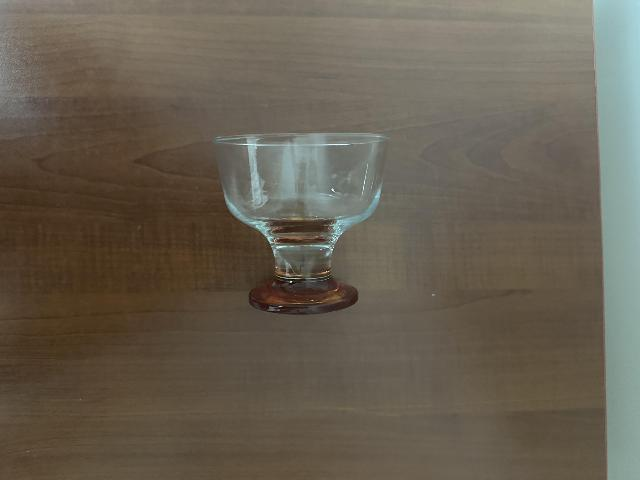Cam: (202, 117, 398, 317)
